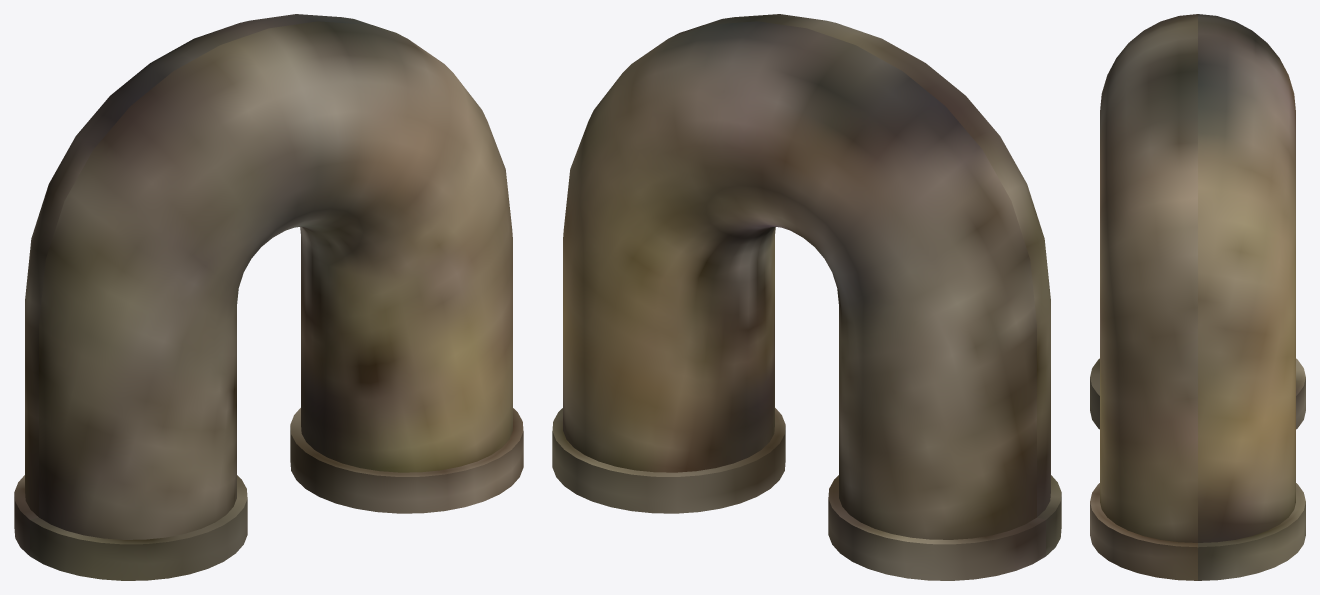
Rendered from pipe-u-bend.gltf.
3 renders of one model, left to right at view 1: azimuth 30°, elevation 25°; view 2: azimuth 150°, elevation 25°; view 3: azimuth 270°, elevation 25°, orthographic. The views are drawn at different scales.
Parts seen in each view (by area): view 1: Cylinder; view 2: Cylinder; view 3: Cylinder.
Boxes of the visible parts, box(x1,y1,x2,y2) form: Cylinder: box(14, 14, 523, 580); Cylinder: box(552, 14, 1061, 580); Cylinder: box(1090, 14, 1305, 580).
Size of the model in its own units: 0.6645 by 0.6236 by 0.2811.
Materials: 1 (1 with a texture image).
